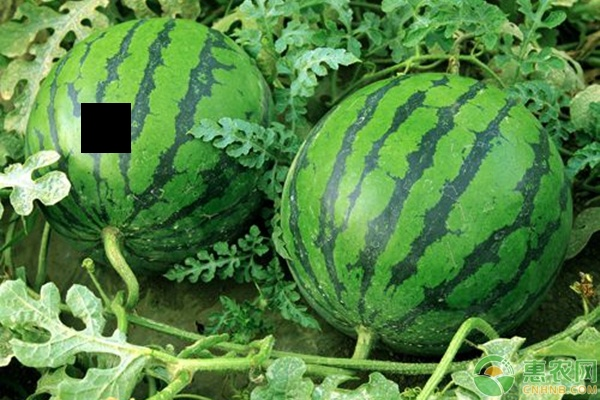watermelon: (289, 70, 575, 339), (24, 16, 272, 269)
